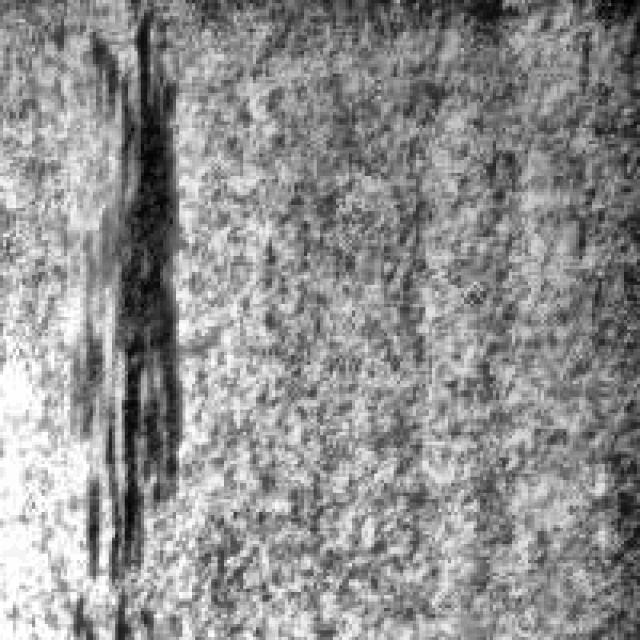Patches: (64, 3, 189, 586)
